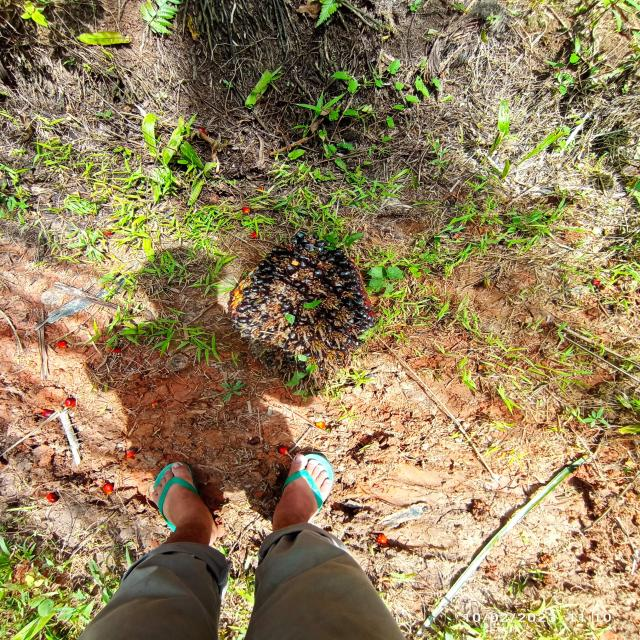fraksi 00: (222, 222, 380, 409)
